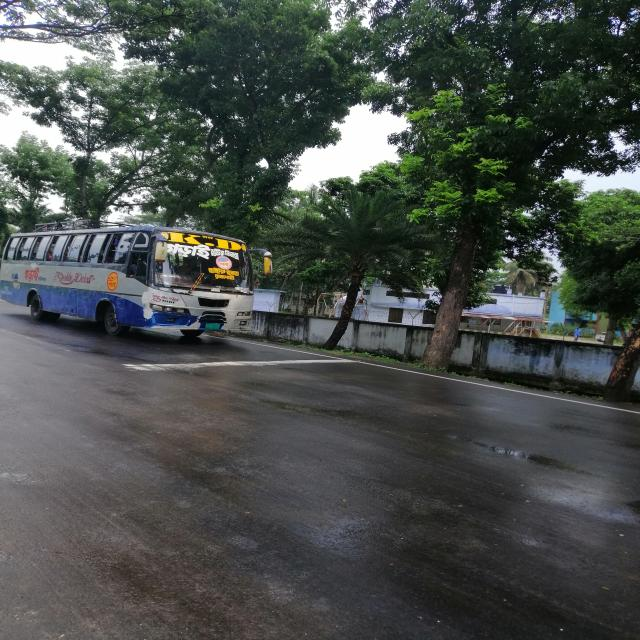Bus: (1, 224, 291, 353)
